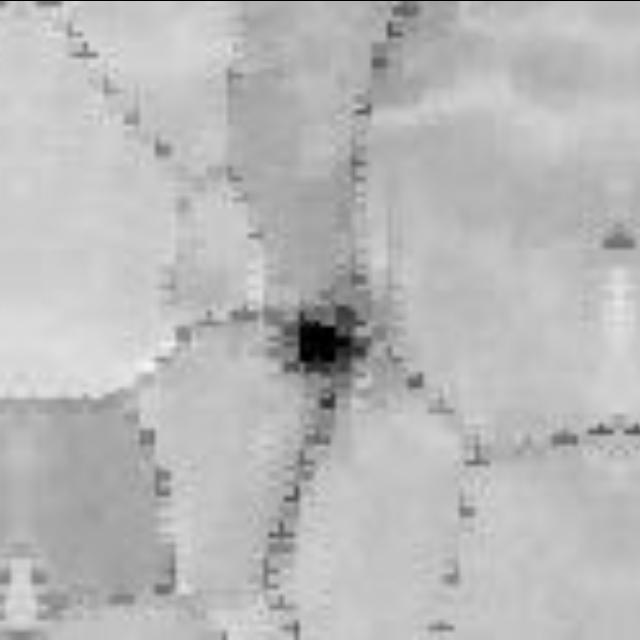good_void: (273, 294, 377, 385)
